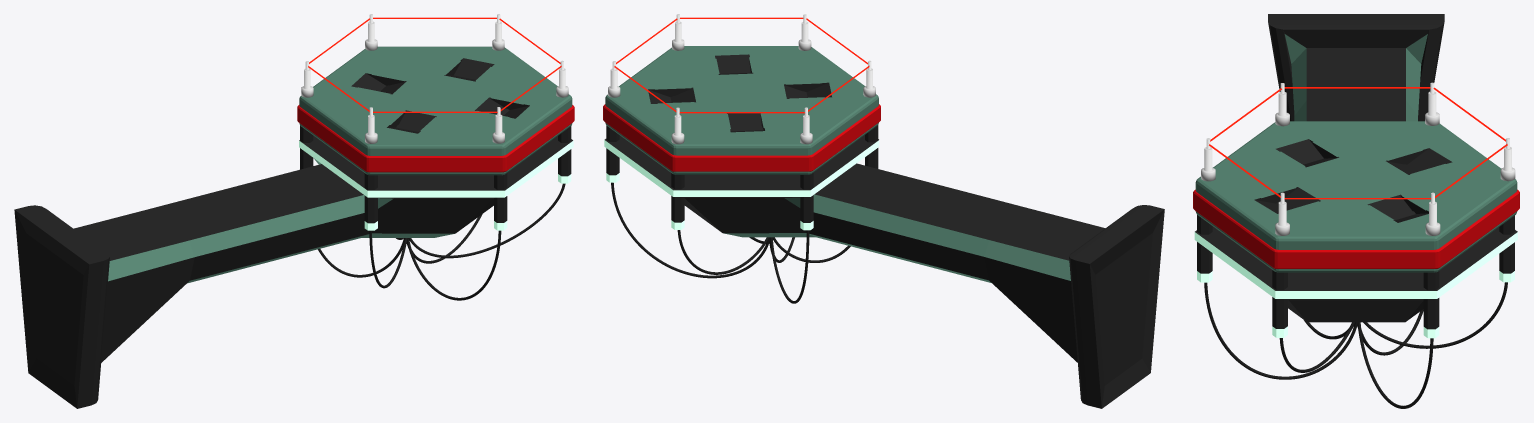
File: teleport_long.fbx
3 views of the same model, side by side, from view 1: azimuth 30°, elevation 25°; view 2: azimuth 150°, elevation 25°; view 3: azimuth 270°, elevation 25° (orthographic). The views are drawn at different scales.
Parts seen in each view (by area): view 1: teleport_long; view 2: teleport_long; view 3: teleport_long.
Boxes of the visible parts, x1,y1,x2,y2 form: teleport_long: [14, 14, 574, 408]; teleport_long: [603, 14, 1164, 408]; teleport_long: [1193, 14, 1519, 408].
Size of the model in its own units: 411 by 190 by 202.
